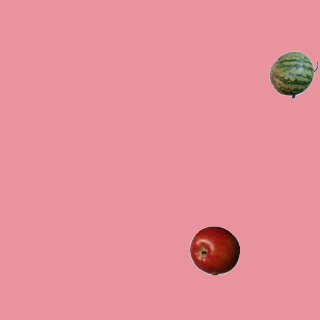Apple Braeburn: (189, 225, 239, 275)
Watermelon: (268, 49, 318, 99)
